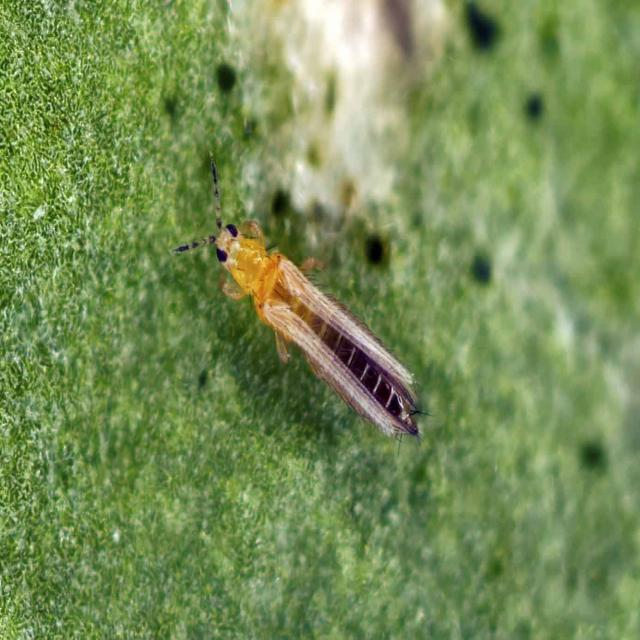Thrip-Adult-: (153, 141, 438, 479)
